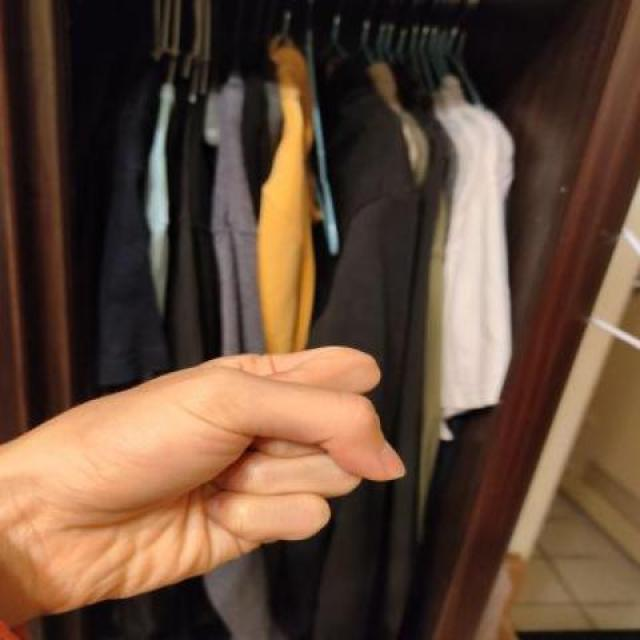Closed Hand: (1, 344, 407, 627)
